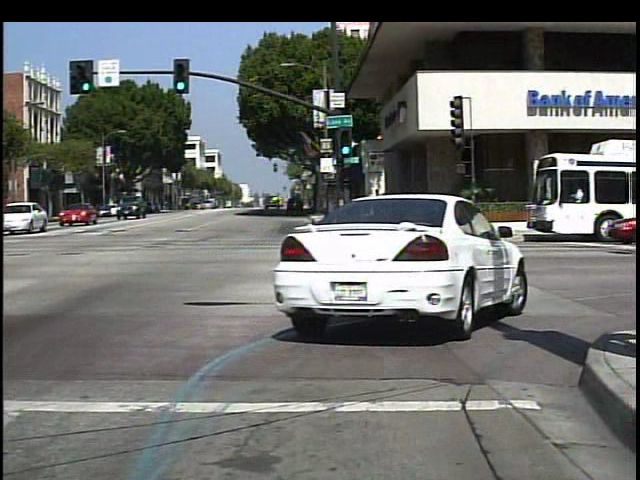person: (369, 182, 389, 222)
